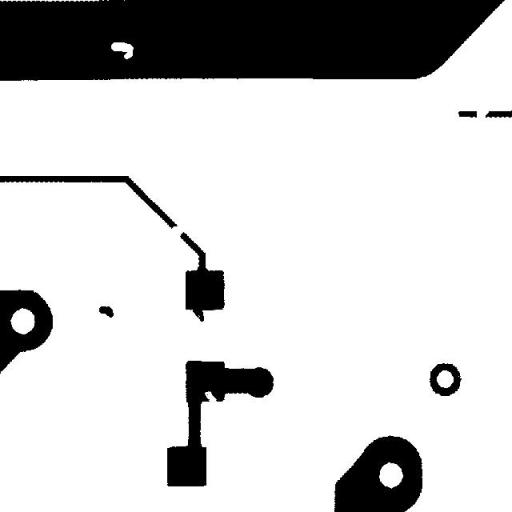copper: (91, 298, 121, 325)
mousebite: (197, 383, 224, 410)
open: (469, 100, 496, 130), (164, 218, 192, 246)
pin-hole: (103, 34, 141, 66)
spur: (184, 296, 211, 329)
